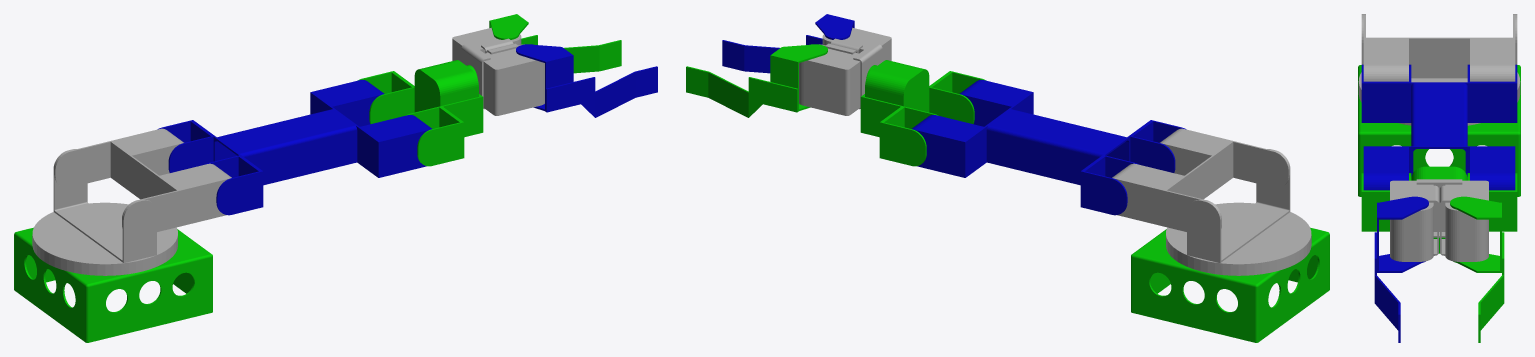
Rendered from crustcrawler-ax12.dae.
The picture shows the model from 3 angles, left to right: view 1: azimuth 30°, elevation 25°; view 2: azimuth 150°, elevation 25°; view 3: azimuth 270°, elevation 25°; orthographic projection. The views are drawn at different scales.
Parts seen in each view (by area): view 1: arm_shoulder_pan_link, arm_shoulder_pitch_link, arm_base_link, arm_elbow_flex_link, arm_wrist_roll_link, arm_right_finger_link, arm_left_finger_link; view 2: arm_shoulder_pan_link, arm_shoulder_pitch_link, arm_base_link, arm_elbow_flex_link, arm_wrist_roll_link, arm_left_finger_link, arm_right_finger_link; view 3: arm_shoulder_pitch_link, arm_shoulder_pan_link, arm_wrist_roll_link, arm_base_link, arm_elbow_flex_link, arm_left_finger_link, arm_right_finger_link.
Boxes of the visible parts, x1,y1,x2,y2 form: arm_shoulder_pan_link: [32, 128, 231, 275]; arm_shoulder_pitch_link: [157, 79, 431, 215]; arm_base_link: [14, 227, 212, 342]; arm_elbow_flex_link: [358, 60, 483, 166]; arm_wrist_roll_link: [452, 27, 544, 115]; arm_right_finger_link: [516, 44, 657, 117]; arm_left_finger_link: [489, 14, 621, 73]; arm_shoulder_pan_link: [1112, 128, 1311, 275]; arm_shoulder_pitch_link: [912, 79, 1186, 215]; arm_base_link: [1131, 227, 1329, 342]; arm_elbow_flex_link: [860, 60, 985, 166]; arm_wrist_roll_link: [799, 27, 891, 115]; arm_left_finger_link: [686, 44, 827, 117]; arm_right_finger_link: [722, 14, 854, 73]; arm_shoulder_pitch_link: [1361, 64, 1517, 190]; arm_shoulder_pan_link: [1358, 14, 1520, 125]; arm_wrist_roll_link: [1390, 179, 1488, 261]; arm_base_link: [1358, 65, 1520, 196]; arm_elbow_flex_link: [1361, 166, 1517, 253]; arm_left_finger_link: [1450, 196, 1504, 342]; arm_right_finger_link: [1374, 196, 1428, 342].
Size of the model in its own units: 0.5395 by 0.115 by 0.139.
